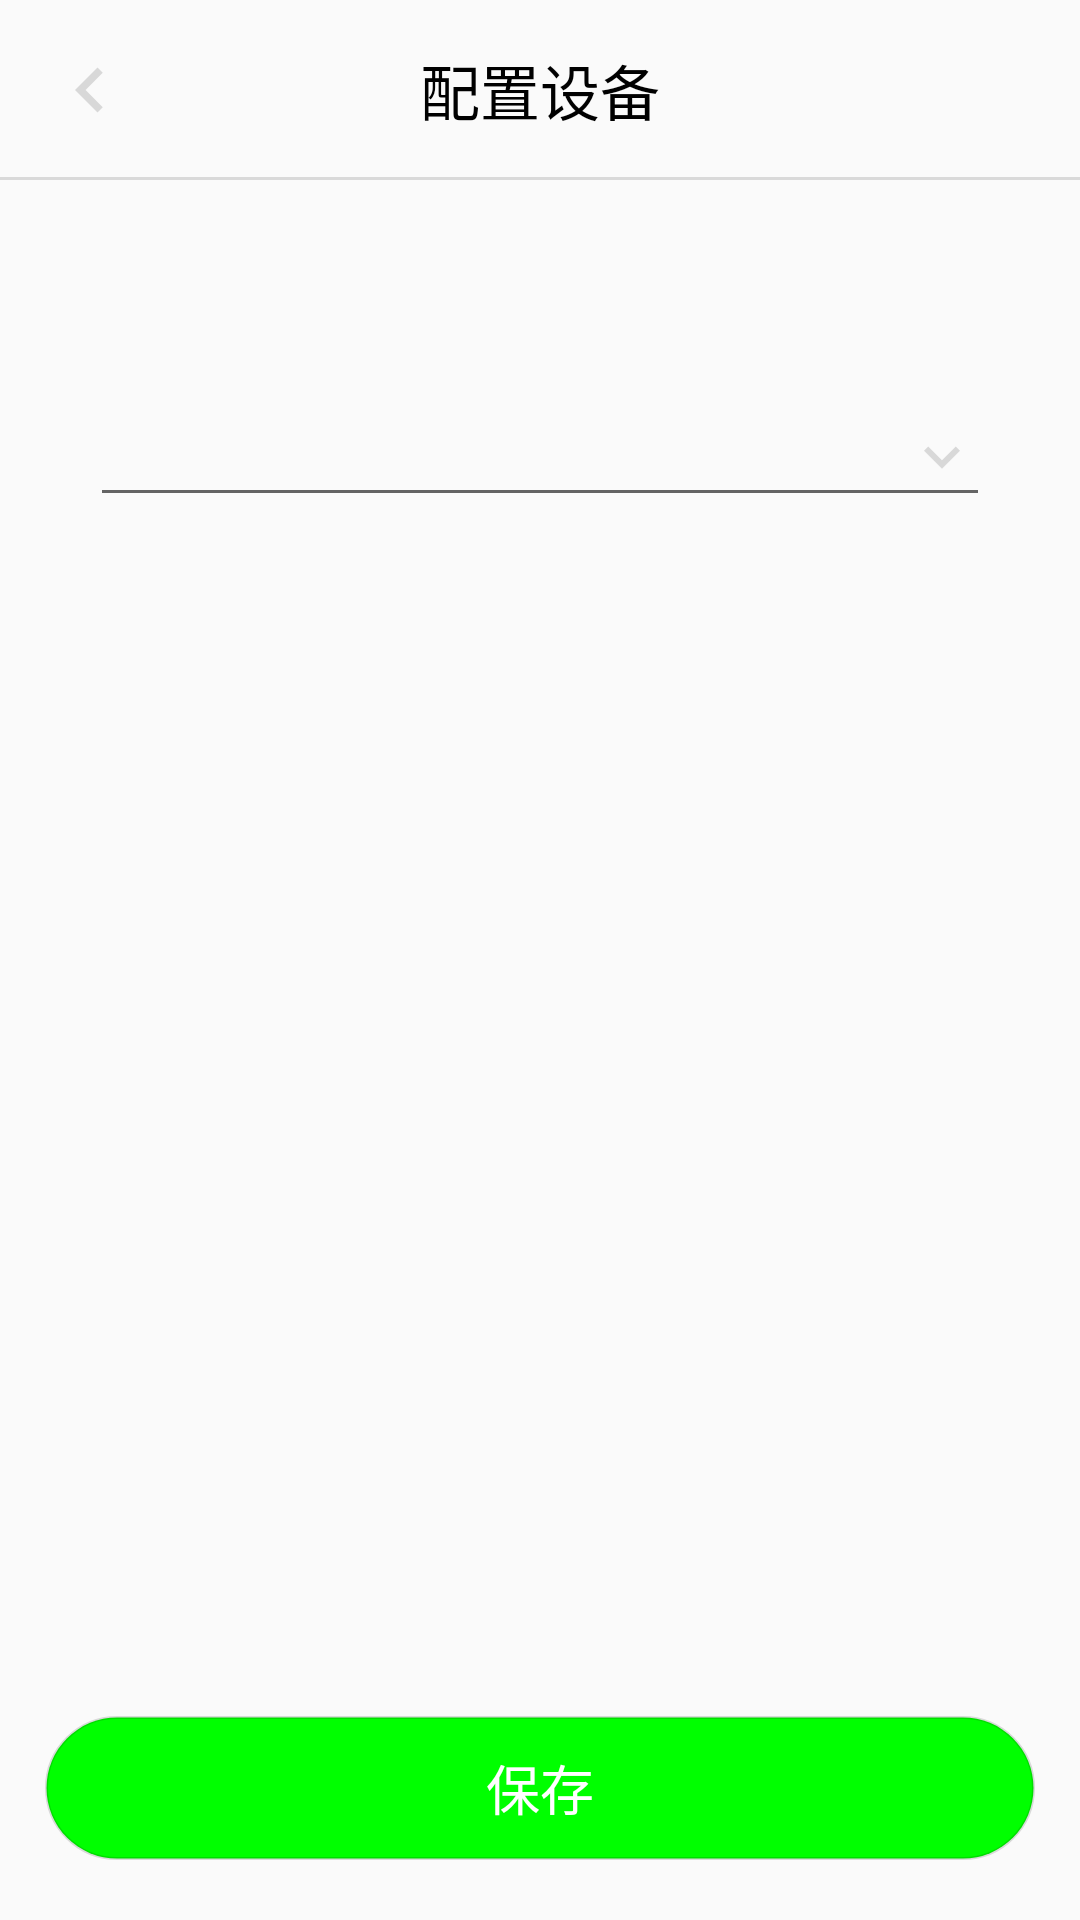

Icon bounding boxes for this 1080 × 1920 phone screenshot, format [left=x1, top=y1, right=x2, bottom=y2]:
left arrow: [left=76, top=68, right=102, bottom=112]
